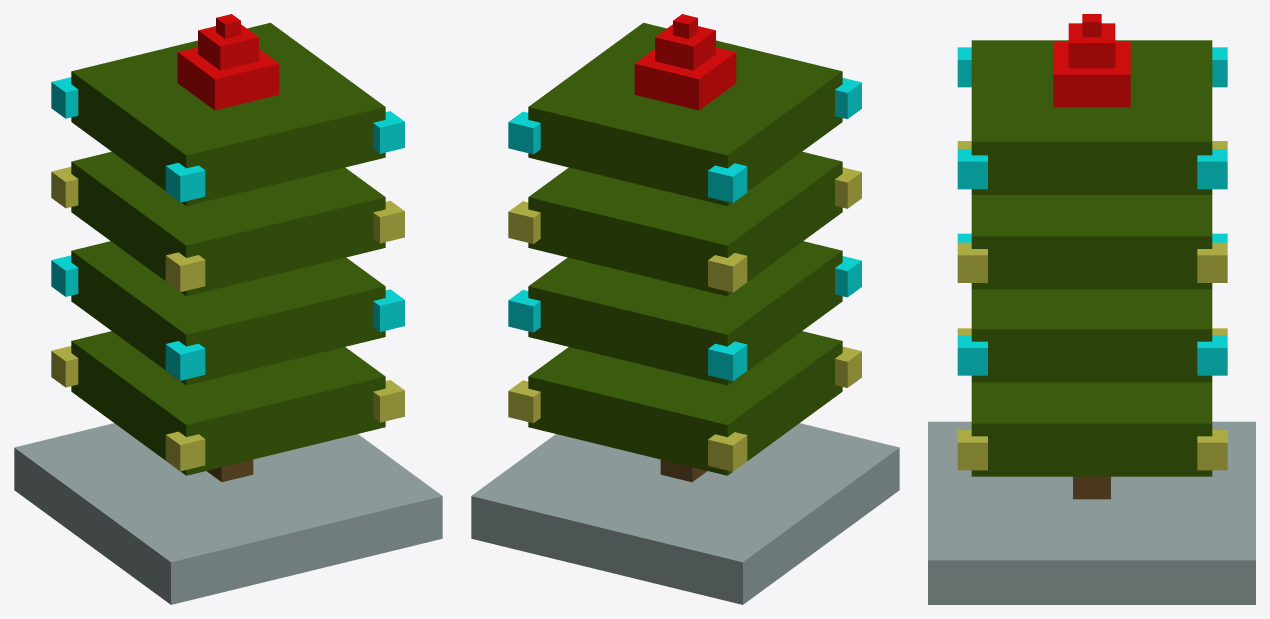
File: 050 Xmas_Tree.fbx
3 views of the same model, side by side, from view 1: azimuth 30°, elevation 25°; view 2: azimuth 150°, elevation 25°; view 3: azimuth 270°, elevation 25° (orthographic). The views are drawn at different scales.
Visible parts, largest first — view 1: Lowpoly_Christmas_Pack_050:pCube26; view 2: Lowpoly_Christmas_Pack_050:pCube26; view 3: Lowpoly_Christmas_Pack_050:pCube26.
Part boxes in pixels (x1,y1,x2,y2): Lowpoly_Christmas_Pack_050:pCube26: [14, 14, 442, 604]; Lowpoly_Christmas_Pack_050:pCube26: [471, 14, 899, 604]; Lowpoly_Christmas_Pack_050:pCube26: [928, 14, 1255, 604].
Size of the model in its own units: 2 by 3.48 by 2.
